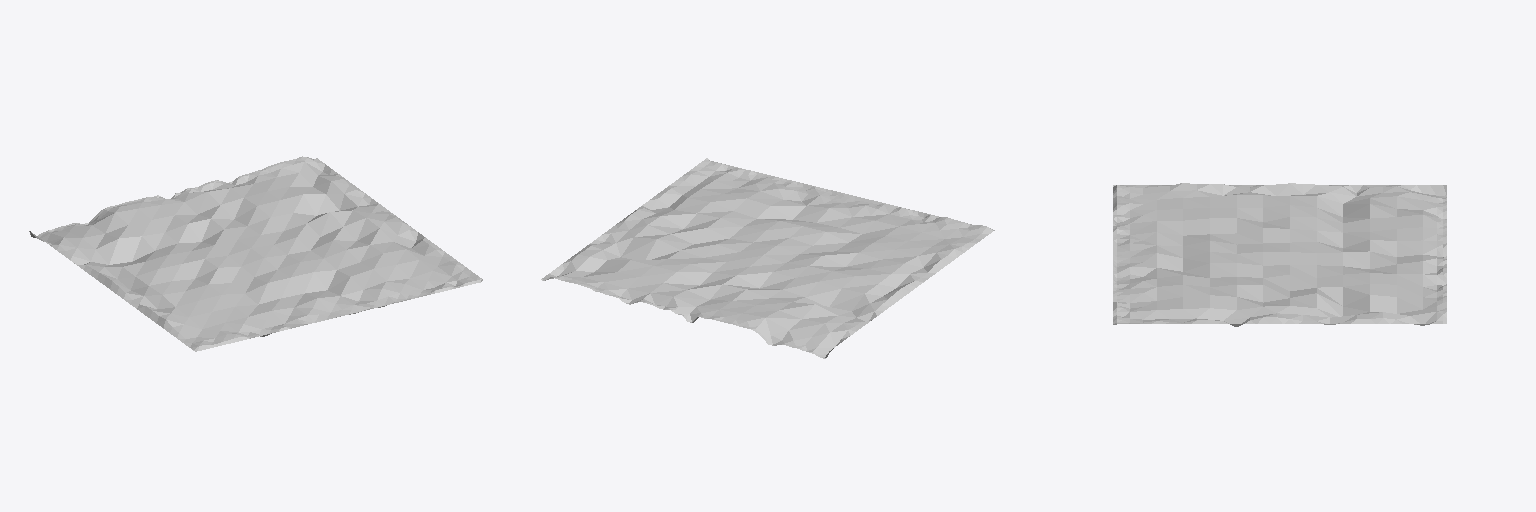
Rendered from RockwallLow4.obj.
3 renders of one model, left to right at view 1: azimuth 30°, elevation 25°; view 2: azimuth 150°, elevation 25°; view 3: azimuth 270°, elevation 25°, orthographic.
Visible parts, largest first — view 1: Rockwall; view 2: Rockwall; view 3: Rockwall.
Boxes of the visible parts, x1=… form: Rockwall: x1=29, y1=156, x2=482, y2=351; Rockwall: x1=541, y1=158, x2=994, y2=358; Rockwall: x1=1113, y1=183, x2=1446, y2=326.
Bounding box in the file's own units: 600 × 31.51 × 600.